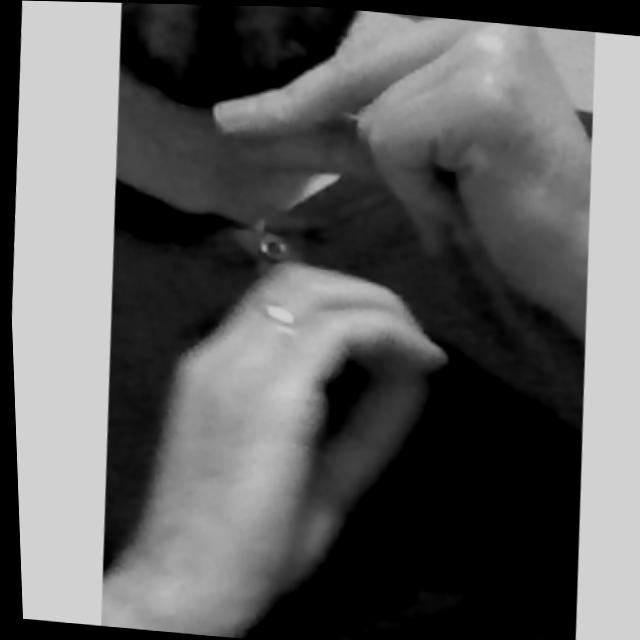O--: (122, 3, 618, 640)
